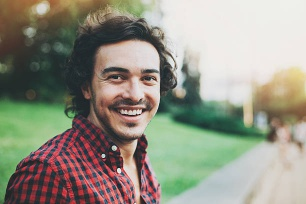male: (66, 23, 168, 144)
